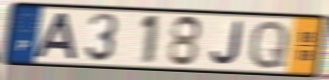1: (140, 14, 162, 66)
3: (83, 12, 119, 64)
8: (165, 14, 204, 68)
A: (32, 11, 79, 61)
J: (210, 20, 245, 66)
Q: (247, 19, 291, 72)
